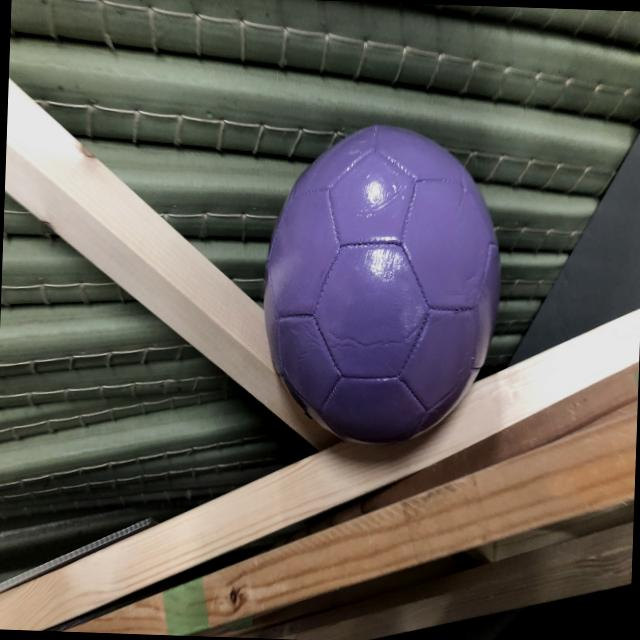purple_ball: (262, 121, 506, 445)
